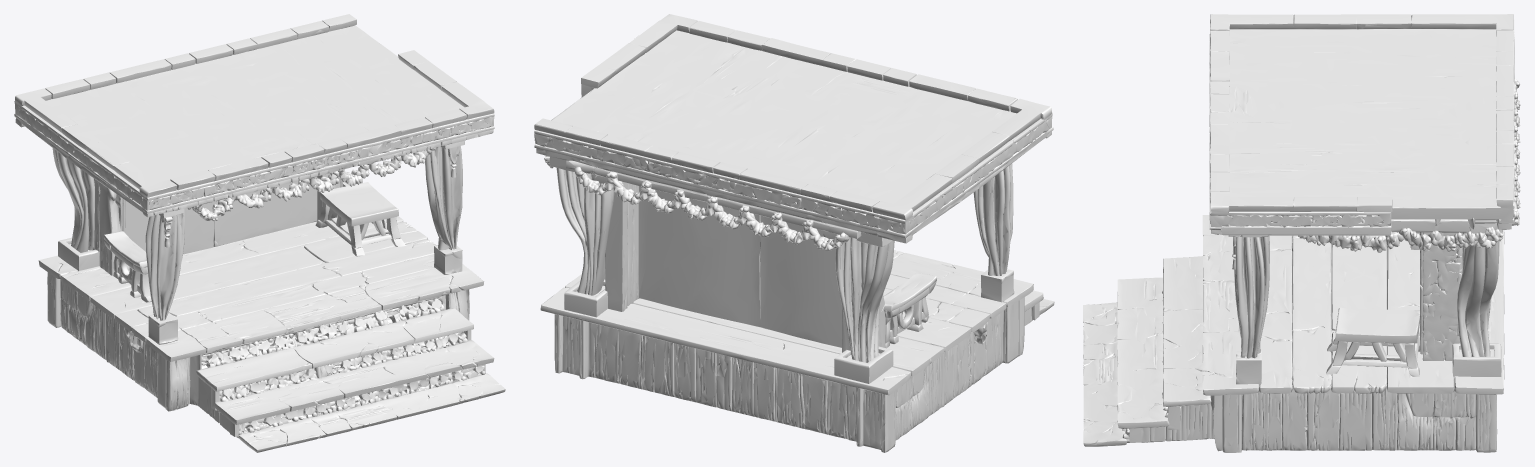
The model's file is dance-stage.glb.
The picture shows the model from 3 angles, left to right: view 1: azimuth 30°, elevation 25°; view 2: azimuth 150°, elevation 25°; view 3: azimuth 270°, elevation 25°; orthographic projection. The views are drawn at different scales.
Visible parts, largest first — view 1: model; view 2: model; view 3: model.
Boxes of the visible parts, x1,y1,x2,y2 form: model: [14, 14, 505, 452]; model: [534, 14, 1054, 452]; model: [1083, 14, 1520, 452].
Size of the model in its own units: 1.9 by 1.23 by 1.82.
Materials: 1 (1 with a texture image).
